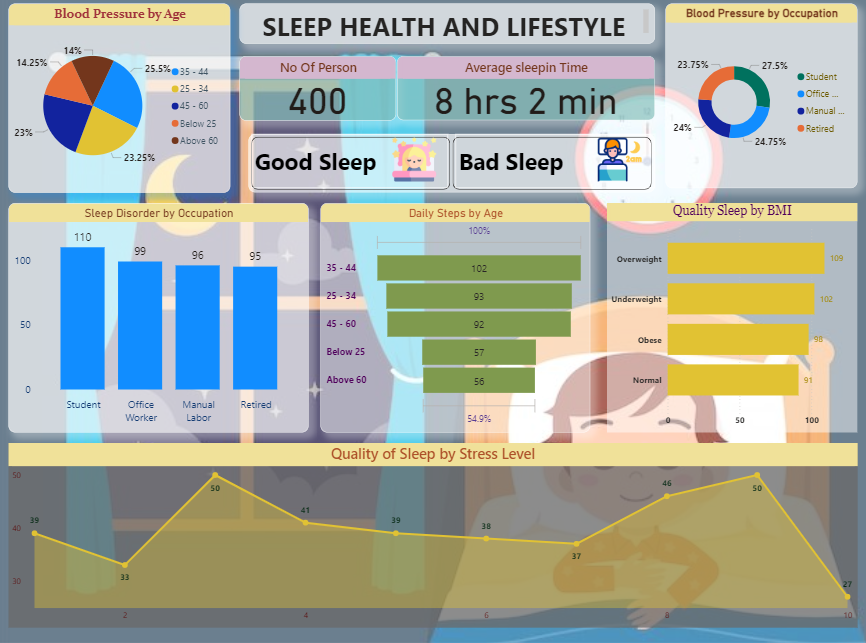

Layout of this report page (visuals, bound fields, positions):
{"tool":"powerbi","page":{"name":"Page 1","canvas":[1280,1000],"ordinal":0},"visuals":[{"type":"textbox","box":[355.7,28.7,611.9,59.6],"z":0},{"type":"pieChart","title":"Blood Pressure  by Age","fields":{"Category":["sleep datasets.Age Band"],"Y":["CountNonNull(sleep datasets.Blood Pressure type)"]},"box":[15.5,28.7,327,278.4],"z":1000},{"type":"donutChart","title":"Blood Pressure  by Occupation","fields":{"Category":["sleep datasets.Occupation"],"Y":["CountNonNull(sleep datasets.Blood Pressure type)"]},"box":[983.1,28.7,282.8,271.7],"z":2000},{"type":"card","title":"No Of Person","fields":{"Values":["CountNonNull(sleep datasets.Person ID)"]},"box":[356.5,105.3,230.9,95.2],"z":3000},{"type":"card","title":"Average sleepin Time","fields":{"Values":["sleep datasets.Sleep Duration Hours"]},"box":[587.6,106,380,95],"z":4000},{"type":"lineStackedColumnComboChart","title":"Sleep Disorder by Occupation","fields":{"Category":["sleep datasets.Occupation"],"Y":["CountNonNull(sleep datasets.Sleep Disorder)"]},"box":[15.5,322.5,441.8,338],"z":5000},{"type":"lineChart","title":" Quality of Sleep  by Stress Level ","fields":{"Category":["sleep datasets.Stress Level (scale: 1-10)"],"Y":["CountNonNull(sleep datasets.Quality of Sleep (scale: 1-10))"]},"box":[15.5,676,1250.4,271.7],"z":6000},{"type":"pageNavigator","box":[368.9,220.9,598.7,86.2],"z":7000},{"type":"image","box":[563.3,220.9,99.4,75.1],"z":10000},{"type":"image","box":[872.6,220.9,86.2,75.1],"z":11000},{"type":"barChart","title":"Quality Sleep by BMI ","fields":{"Category":["sleep datasets.BMI Category"],"Y":["CountNonNull(sleep datasets.QOS Ratings)"]},"box":[896.9,322.5,368.9,338],"z":12000},{"type":"funnel","title":"Daily Steps by Age","fields":{"Y":["CountNonNull(sleep datasets.Daily Steps)"],"Category":["sleep datasets.Age Band"]},"box":[475,322.5,397.7,338],"z":13000},{"type":"actionButton","box":[373.4,220.9,289.4,79.5],"z":13001},{"type":"actionButton","box":[673.8,220.9,293.8,79.5],"z":13002}]}

Visuals, with their boxes in screenshot pixels (x1, y1, x2, y2):
textbox: [238,2,655,42]
"Blood Pressure  by Age" pieChart: [6,2,229,191]
"Blood Pressure  by Occupation" donutChart: [665,2,858,187]
"No Of Person" card: [238,54,396,119]
"Average sleepin Time" card: [396,54,655,119]
"Sleep Disorder by Occupation" lineStackedColumnComboChart: [6,202,307,432]
" Quality of Sleep  by Stress Level " lineChart: [6,443,858,628]
pageNavigator: [247,132,655,191]
image: [379,132,447,184]
image: [590,132,649,184]
"Quality Sleep by BMI " barChart: [607,202,858,432]
"Daily Steps by Age" funnel: [319,202,590,432]
actionButton: [250,132,447,187]
actionButton: [455,132,655,187]
